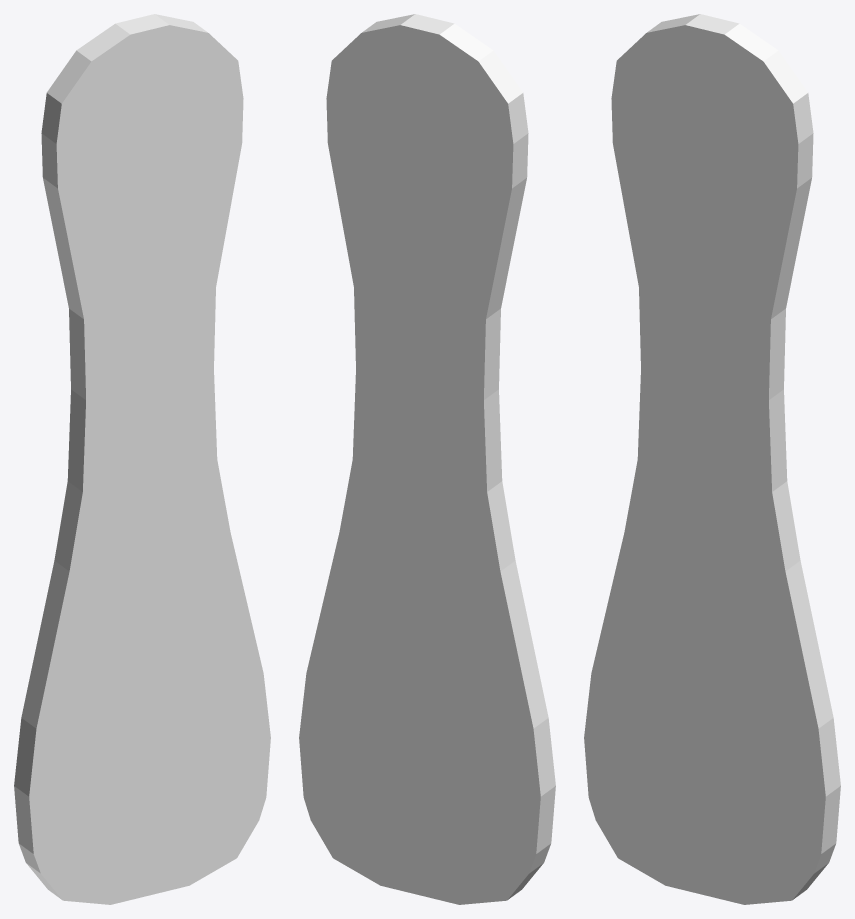
The model's file is stick.fbx.
3 renders of one model, left to right at view 1: azimuth 30°, elevation 25°; view 2: azimuth 150°, elevation 25°; view 3: azimuth 330°, elevation 25°, orthographic.
Parts seen in each view (by area): view 1: stick; view 2: stick; view 3: stick.
Boxes of the visible parts, <box> form: stick: <box>14,14,270,904</box>; stick: <box>299,14,555,904</box>; stick: <box>584,14,840,904</box>.
Size of the model in its own units: 69.41 by 237 by 7.52.
